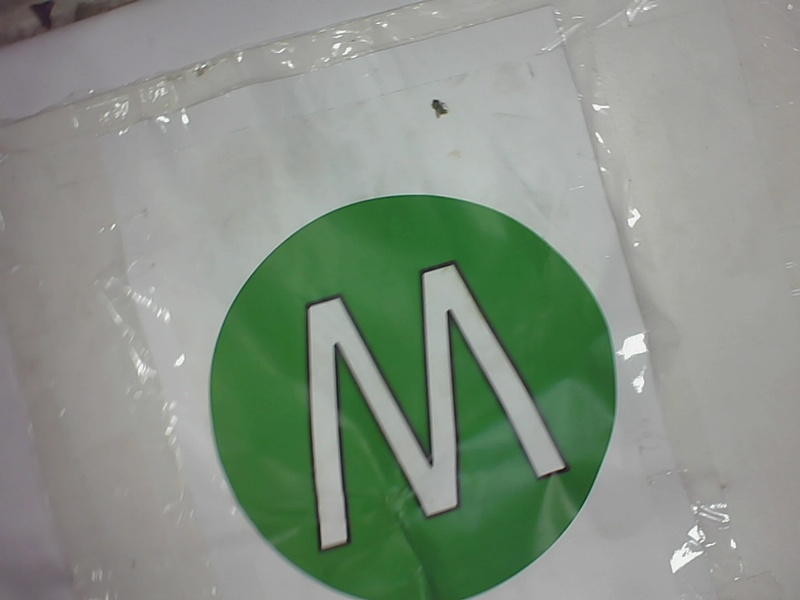areaB: (203, 185, 623, 599)
